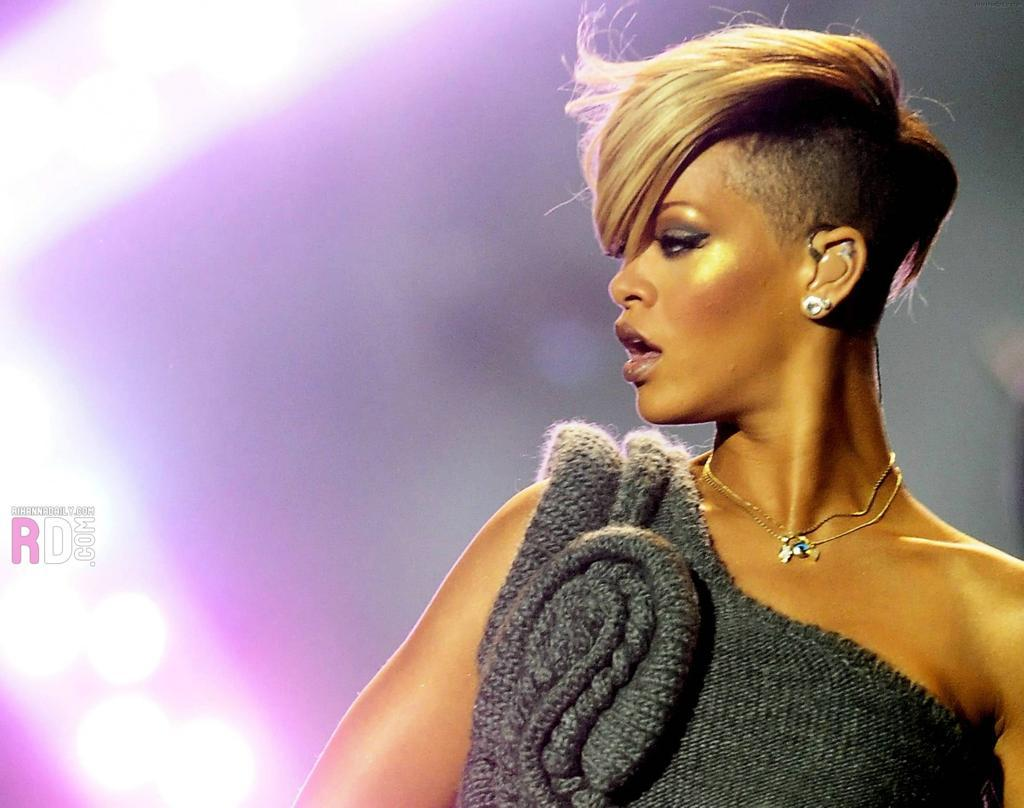face: (609, 141, 803, 421)
